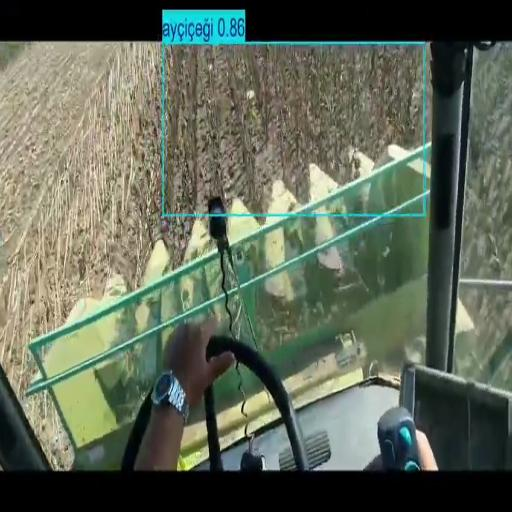ayc: (165, 46, 423, 212)
